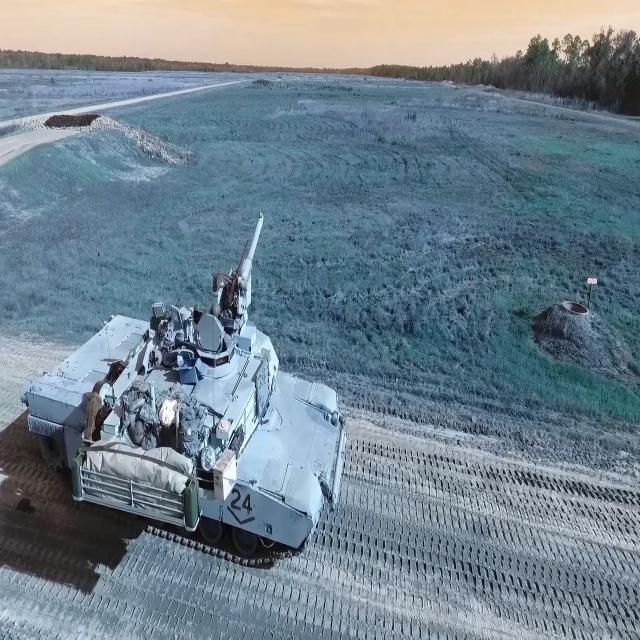MIL_MBT: (20, 210, 349, 562)
